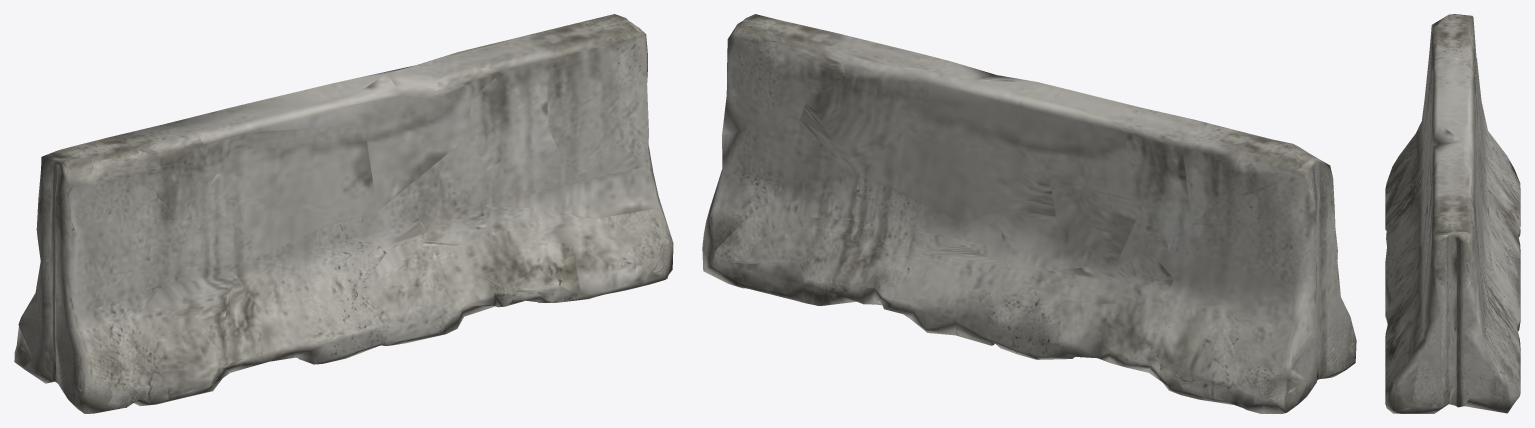
The model's file is barriere.glb.
3 renders of one model, left to right at view 1: azimuth 30°, elevation 25°; view 2: azimuth 150°, elevation 25°; view 3: azimuth 270°, elevation 25°, orthographic. The views are drawn at different scales.
Size of the model in its own units: 1.9 by 0.7142 by 0.4826.
Materials: 1 (1 with a texture image).
